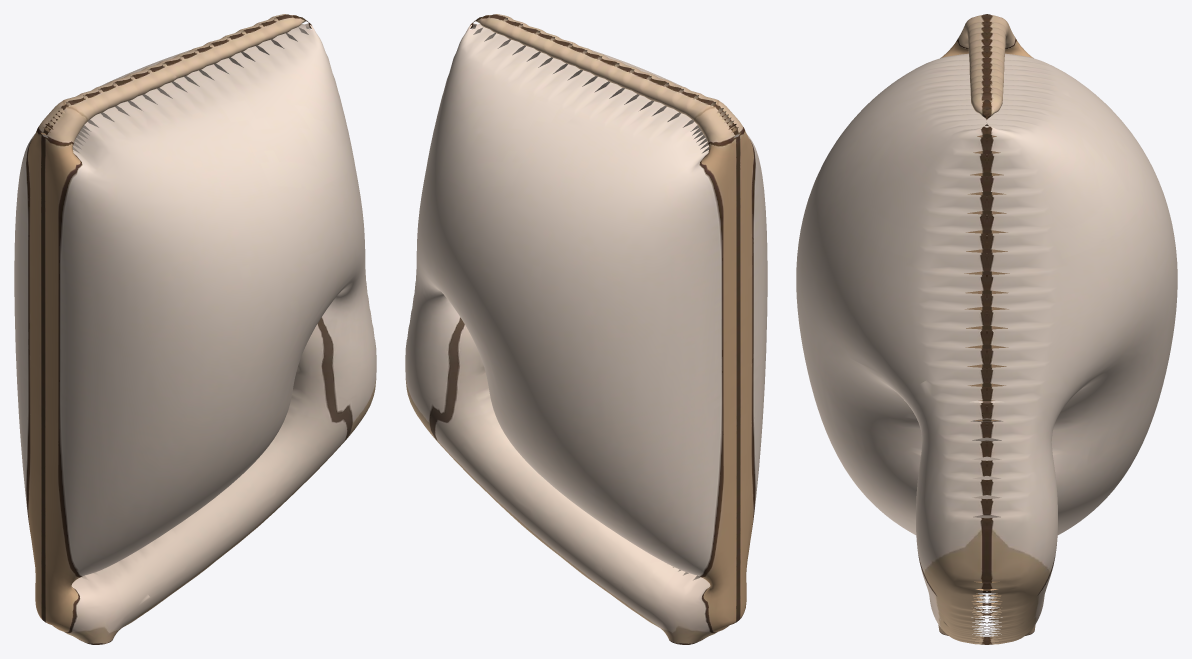
File: west_wall.glb
3 views of the same model, side by side, from view 1: azimuth 30°, elevation 25°; view 2: azimuth 150°, elevation 25°; view 3: azimuth 270°, elevation 25° (orthographic). The views are drawn at different scales.
Visible parts, largest first — view 1: west_wall; view 2: west_wall; view 3: west_wall.
Boxes of the visible parts, <box> form: west_wall: <box>14,14,376,644</box>; west_wall: <box>405,14,767,644</box>; west_wall: <box>796,14,1177,644</box>.
Size of the model in its own units: 0.9817 by 1.65 by 0.8837.
Materials: 1 (1 with a texture image).
